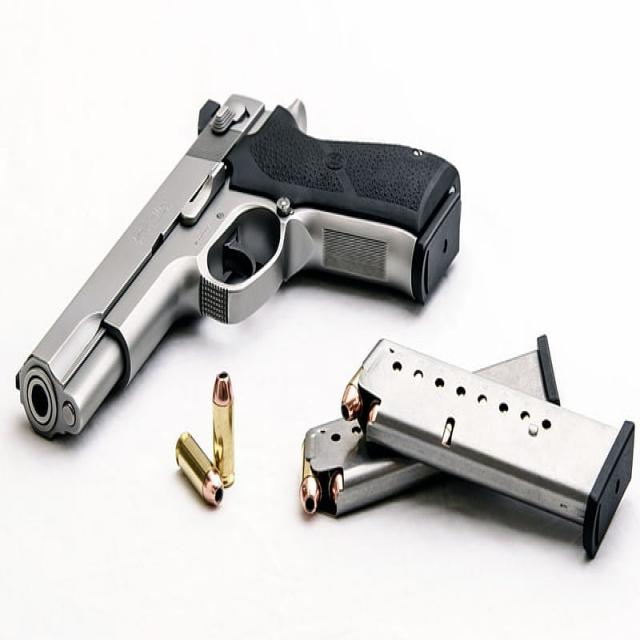HandGun: (14, 95, 462, 441)
